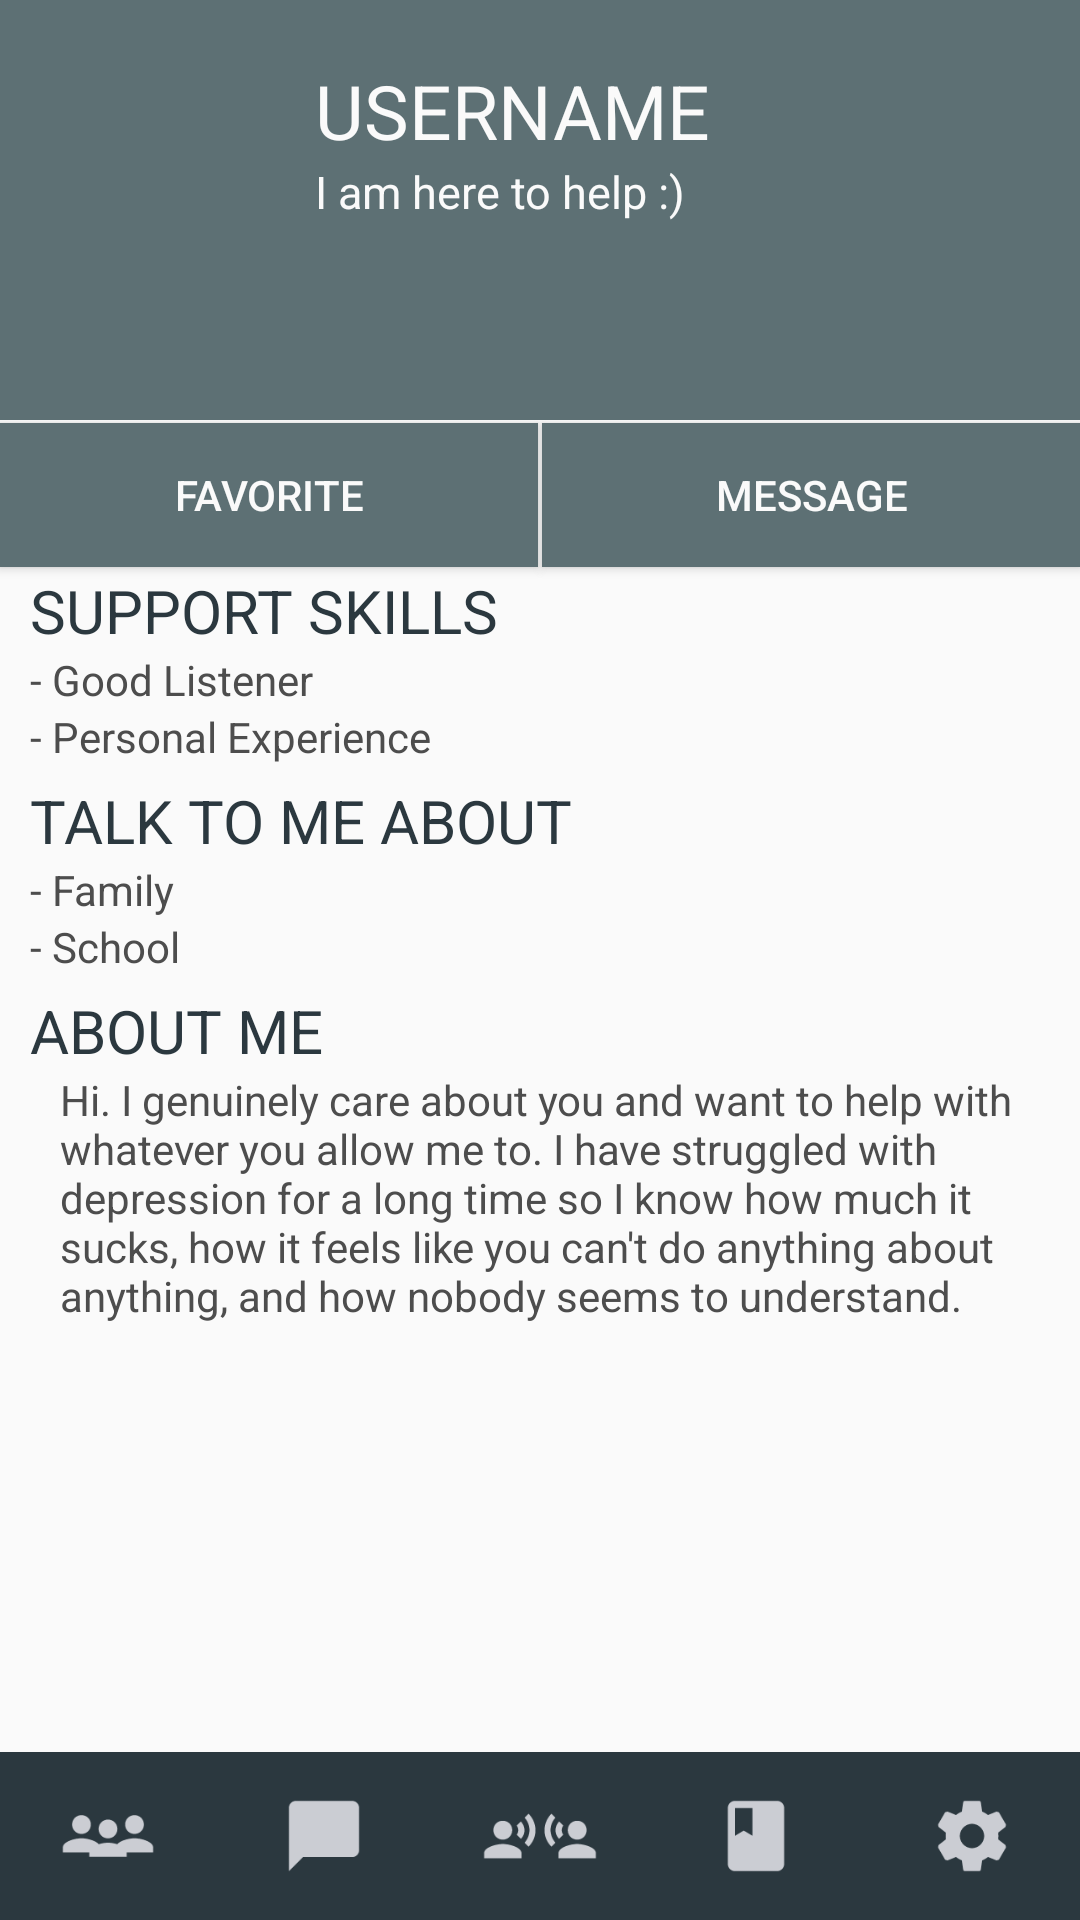

Named icons in this screenshot (1080x1920) and their bounding boxes, box=[x1, y1, x2, y2]:
conversation: box=[484, 1814, 596, 1859]
friends: box=[62, 1815, 154, 1857]
learn: box=[727, 1800, 785, 1872]
messages: box=[288, 1800, 360, 1871]
settings: box=[938, 1800, 1006, 1872]
